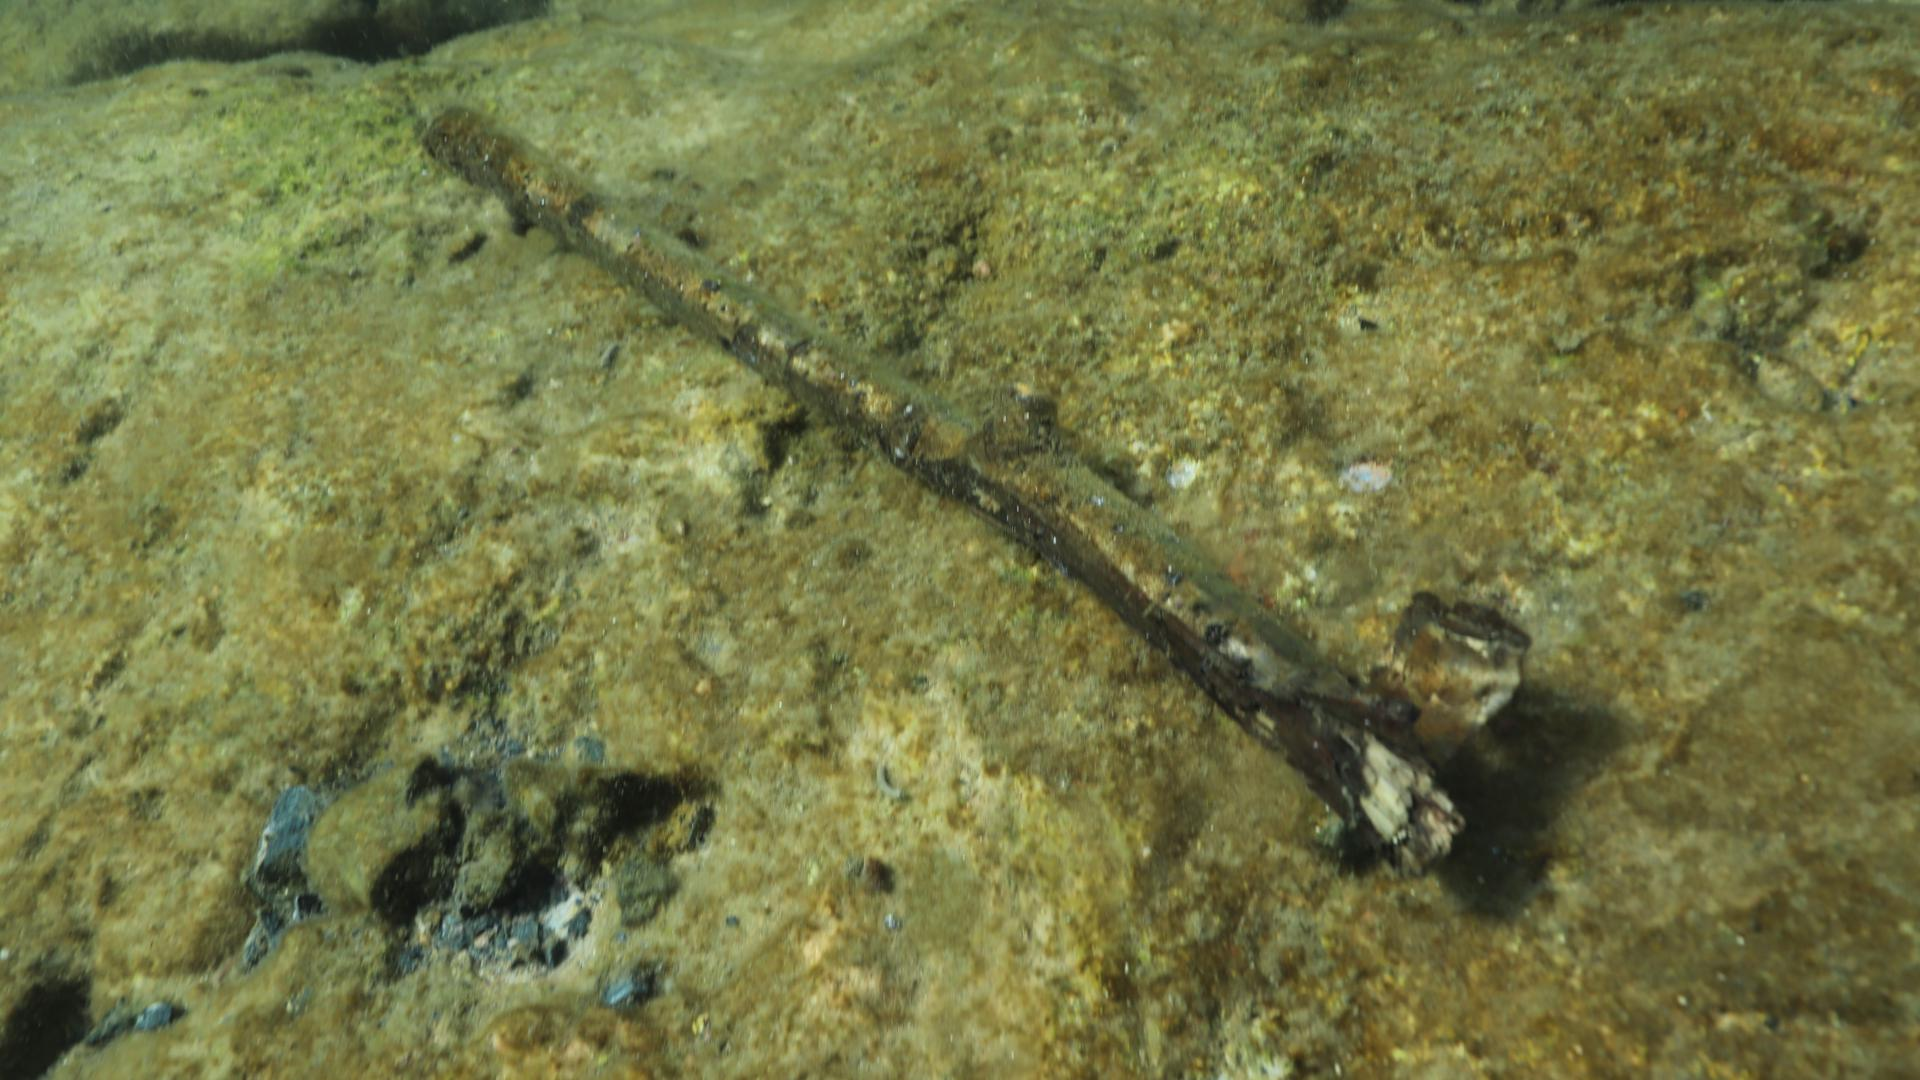wood: (415, 103, 1532, 880)
